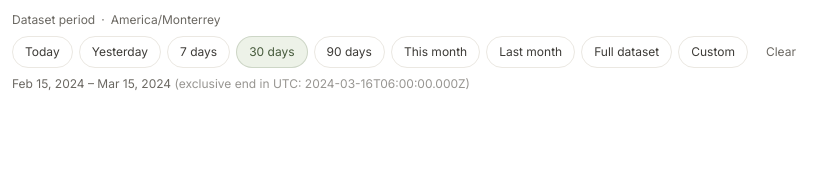
Test: DateRangePicker (15 §9) — componente › does not apply impossible dates and resets custom fields to the initial preset
Click the button "Custom".
click(713, 52)  # box [678, 36, 748, 68]
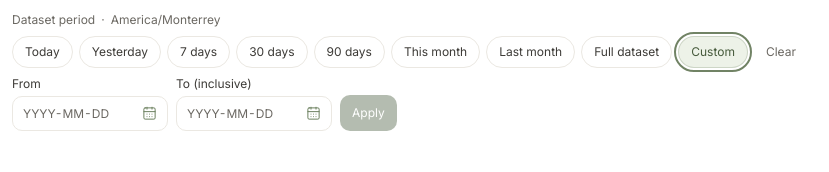
Type "2024-02-30" into the field labelled "From".
click(72, 114); type("2024-02-30")  # box [13, 97, 131, 130]
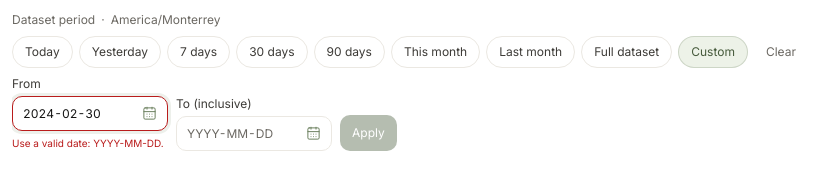
Type "2024-03-10" into the field labelled "To (inclusive)".
click(236, 134); type("2024-03-10")  # box [177, 117, 295, 150]
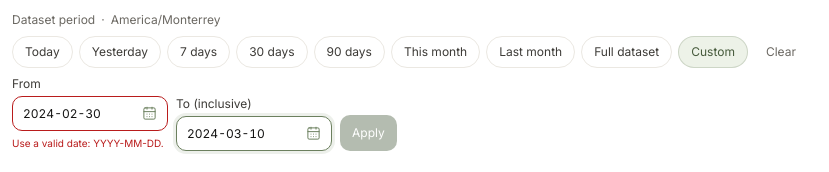
Now the button "Apply" is disabled, box [340, 115, 397, 151]
Click the button "Clear".
click(781, 52)  # box [754, 36, 808, 68]
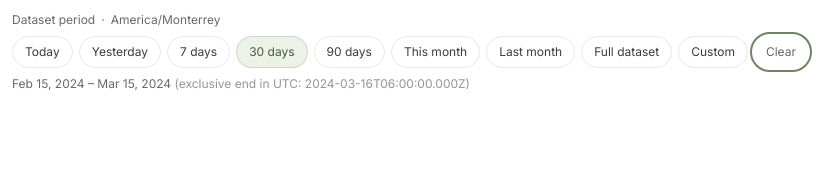
Now the label "From" is gone
